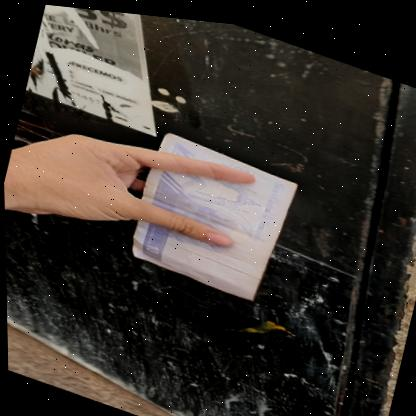ten-back-vef: (125, 121, 303, 305)
